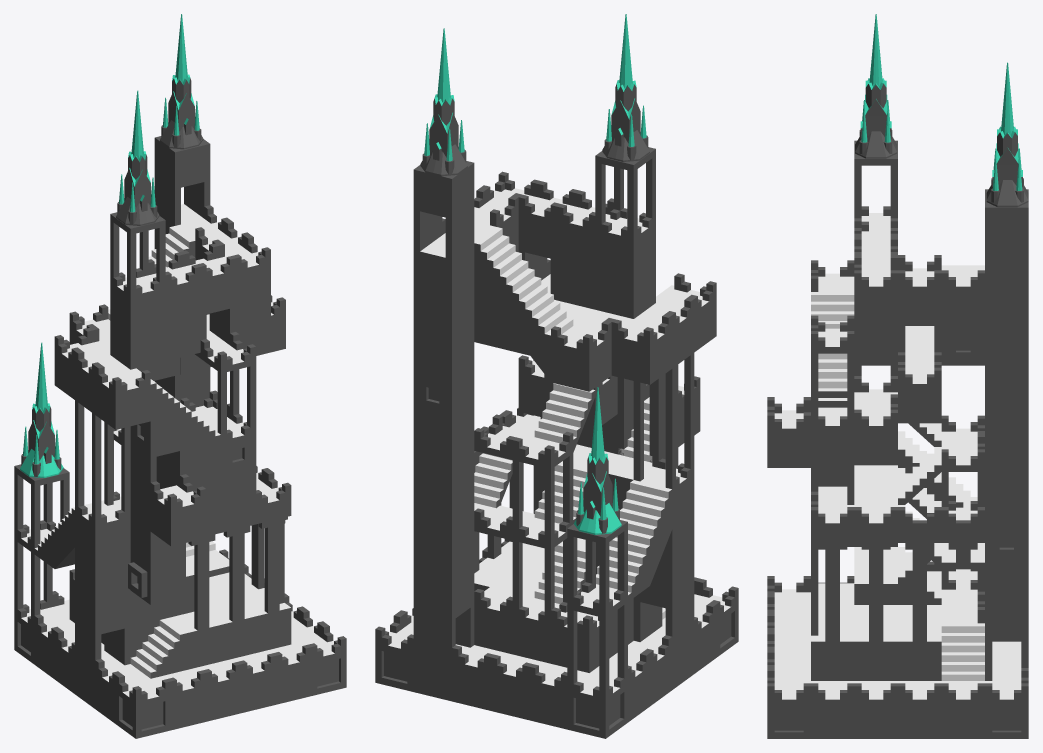
The model's file is tower-big.glb.
The picture shows the model from 3 angles, left to right: view 1: azimuth 30°, elevation 25°; view 2: azimuth 150°, elevation 25°; view 3: azimuth 270°, elevation 25°; orthographic projection. The views are drawn at different scales.
Visible parts, largest first — view 1: level; view 2: level; view 3: level.
Boxes of the visible parts, left/top/right/bottom form: level: left=14, top=14, right=346, bottom=738; level: left=375, top=14, right=738, bottom=738; level: left=767, top=14, right=1028, bottom=738.
Size of what is drawn, in the model's own units: 6 by 16.44 by 6.
